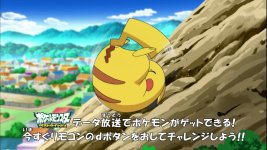pikachu: (88, 17, 178, 118)
